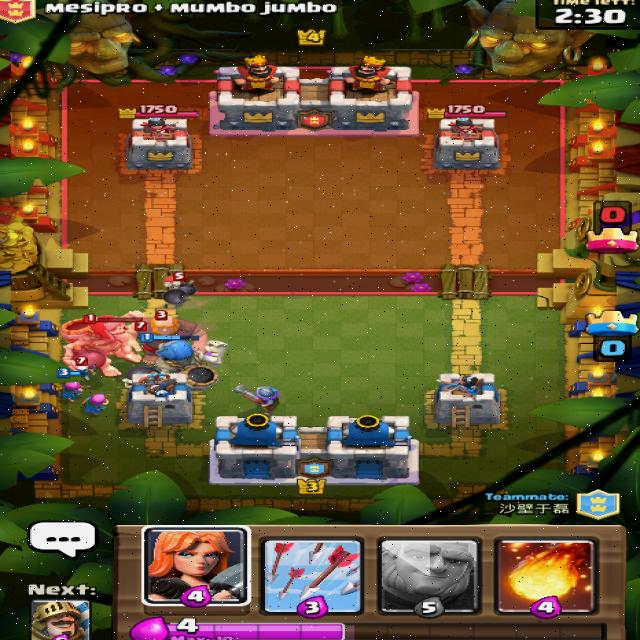Enemy-Bomber: (161, 270, 195, 304)
Enemy-Giant: (125, 309, 207, 364)
Enemy-GiantSkeleton: (57, 313, 142, 377)
Player-Archer: (56, 367, 85, 401), (78, 390, 112, 416)
Player-GiantSkeleton: (119, 332, 228, 390)
Player-Musketeer: (231, 383, 280, 414)
